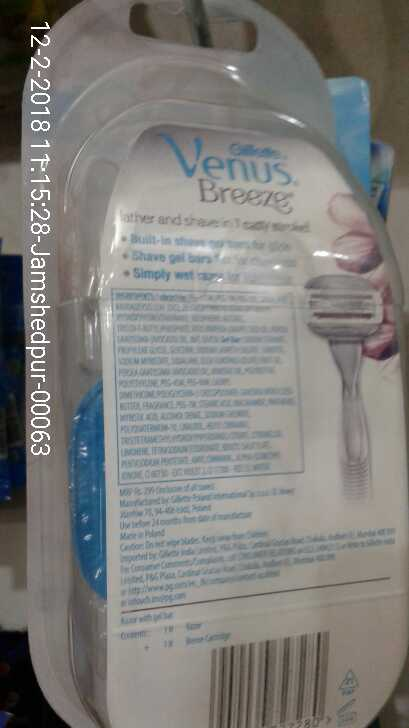reject: (104, 207, 302, 395)
